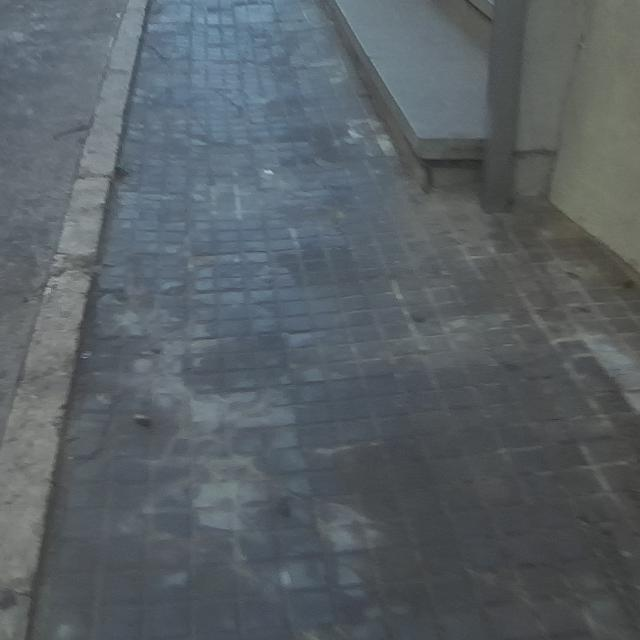calcada_quebrada: (72, 393, 123, 471)
